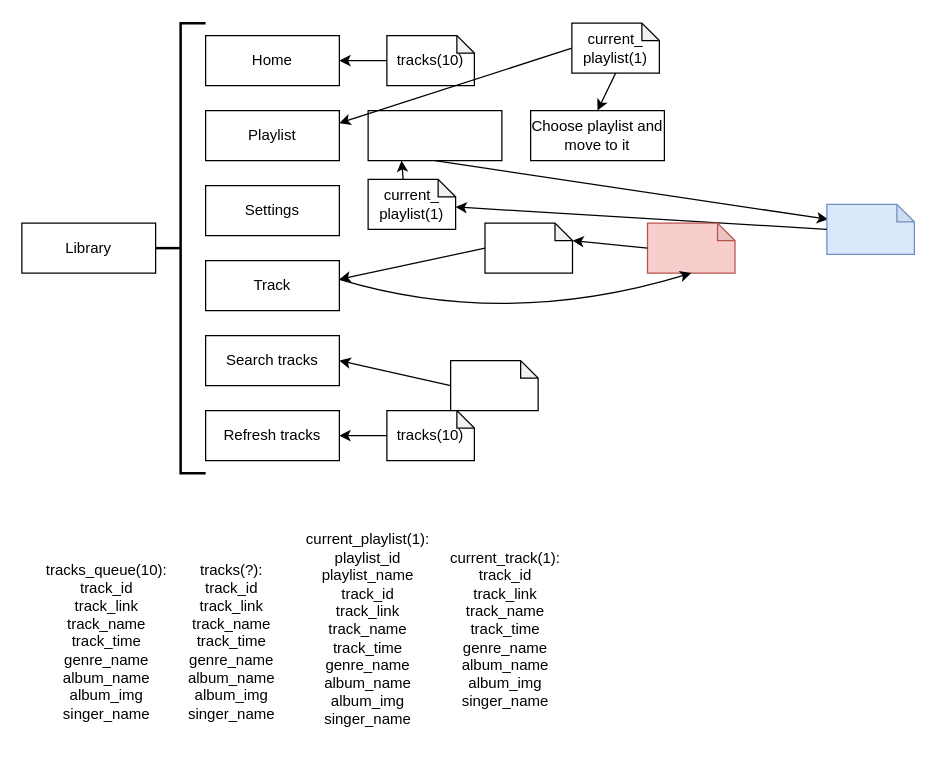
Some shapes in this 936 by 769 pixel diagram are drawn without their labels. The box of each missing label's shape, as (x1, y1, x2, y2) in pixels:
Create playlist: (367, 109, 502, 161)
current_ track(1): (484, 222, 572, 273)
playlists(all): (826, 203, 914, 254)
track_ queue(10): (646, 222, 735, 273)
tracks(all), albums(all): (449, 359, 538, 411)
